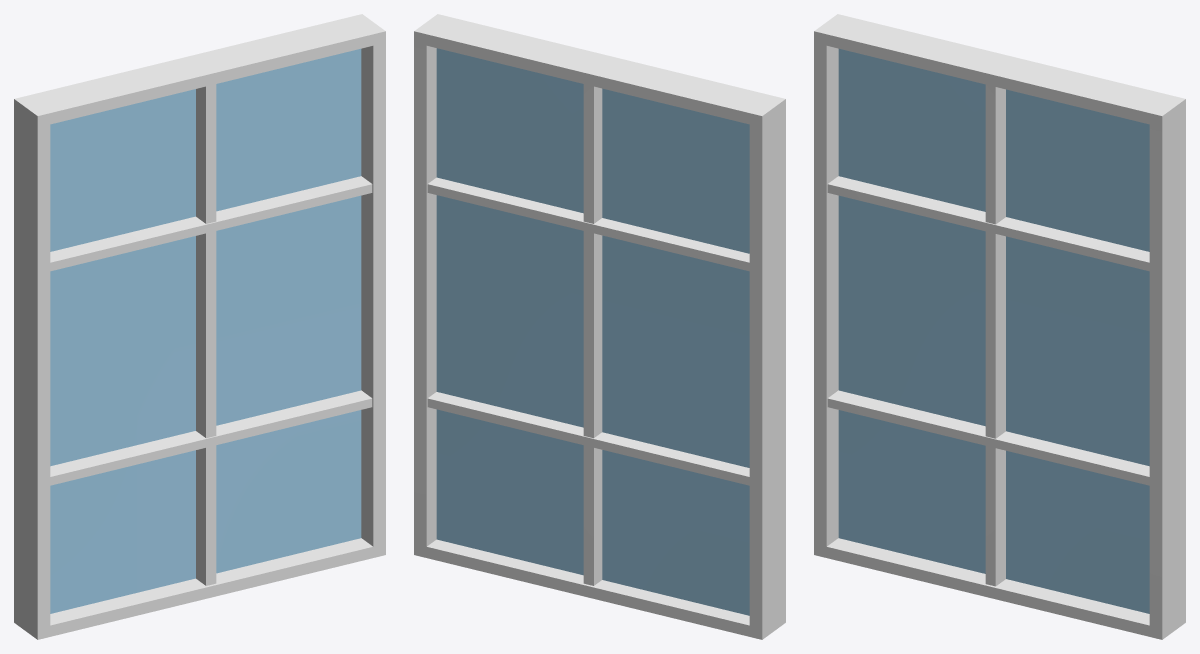
The model's file is window_023.fbx.
3 views of the same model, side by side, from view 1: azimuth 30°, elevation 25°; view 2: azimuth 150°, elevation 25°; view 3: azimuth 330°, elevation 25° (orthographic).
Parts seen in each view (by area): view 1: window_023; view 2: window_023; view 3: window_023.
Part boxes in pixels (bbox=[...]): window_023: bbox=[14, 14, 385, 639]; window_023: bbox=[414, 14, 785, 639]; window_023: bbox=[814, 14, 1185, 639].
Size of the model in its own units: 192 by 22.49 by 276.
